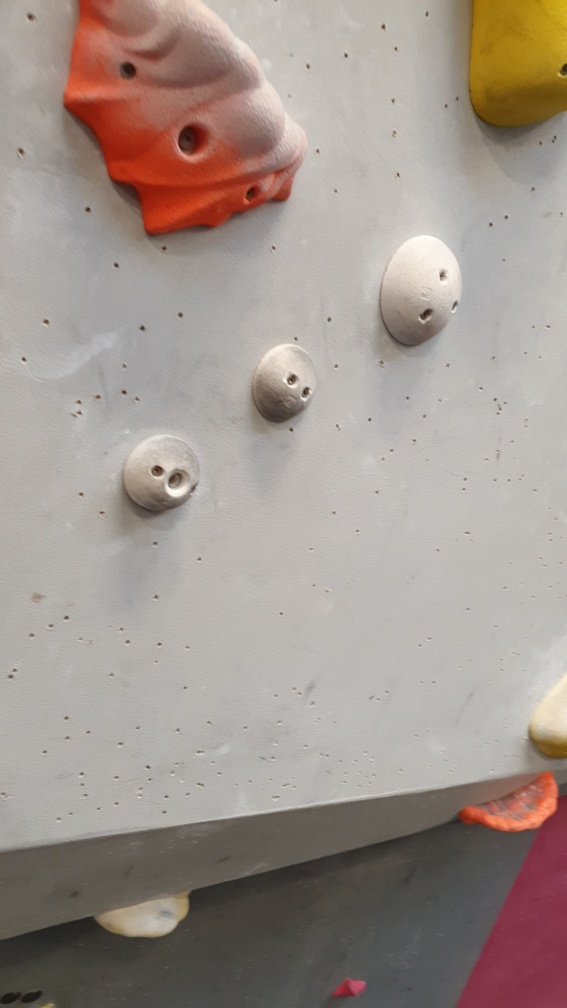Jug: (59, 1, 306, 241), (457, 773, 560, 835)
Sloper: (378, 231, 468, 349), (121, 432, 203, 515), (253, 341, 323, 429)
